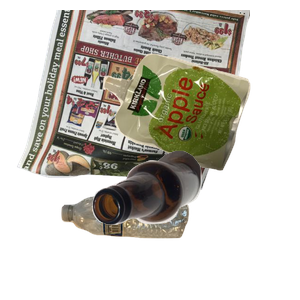glass: (90, 148, 300, 300)
paper: (14, 10, 254, 190)
plastic: (59, 193, 241, 300)
trash: (100, 51, 300, 214)
